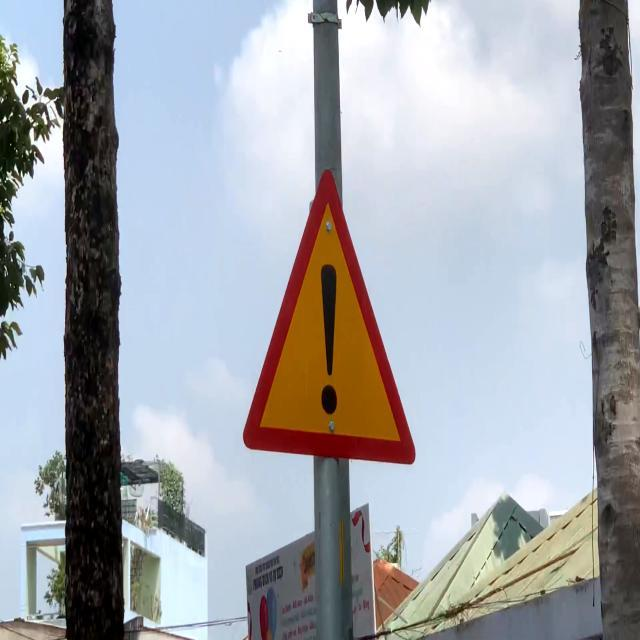W-233: (244, 170, 416, 468)
